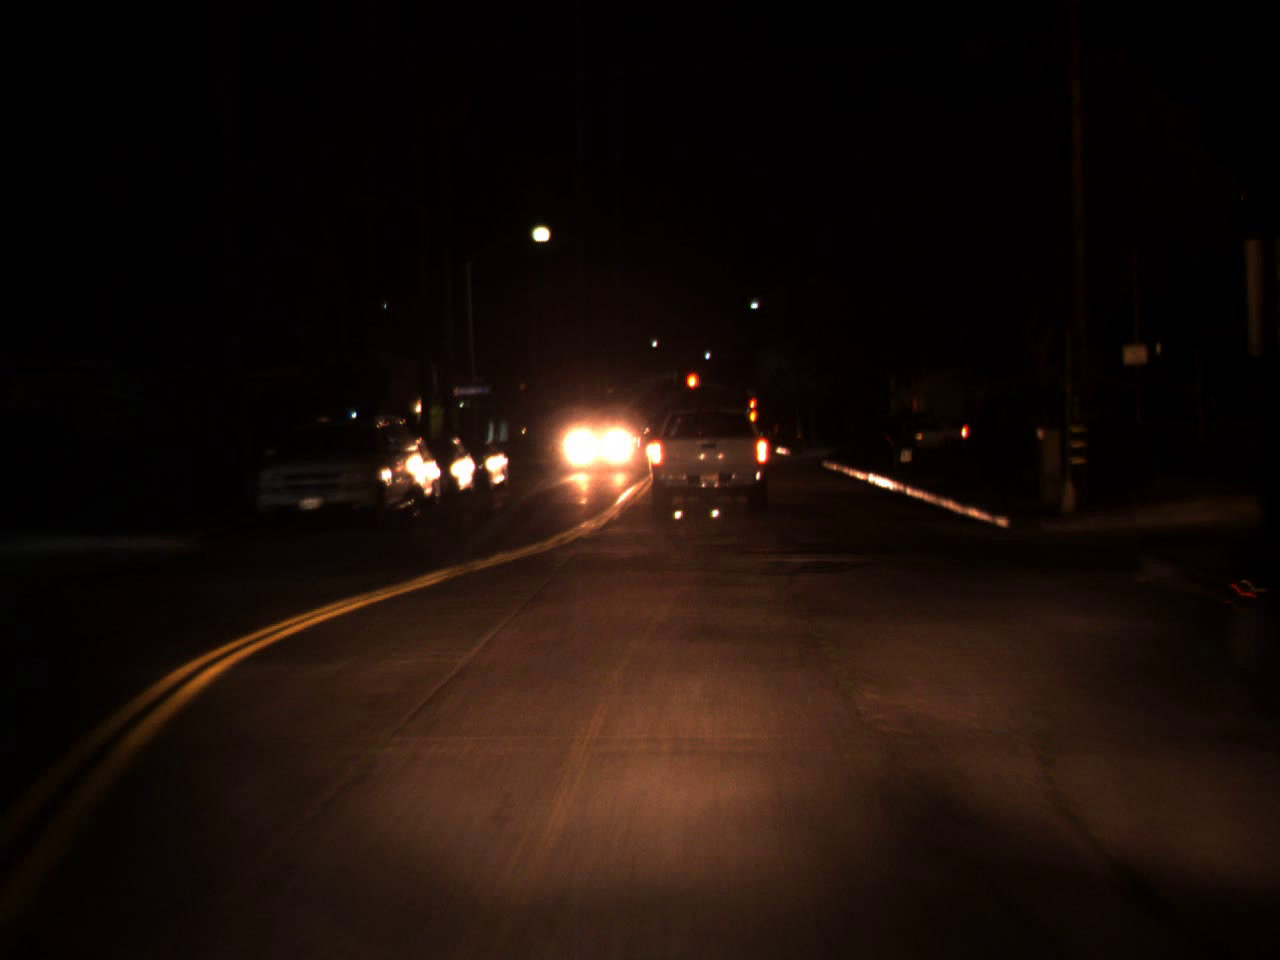stop: (684, 370, 702, 407), (749, 398, 756, 419)
